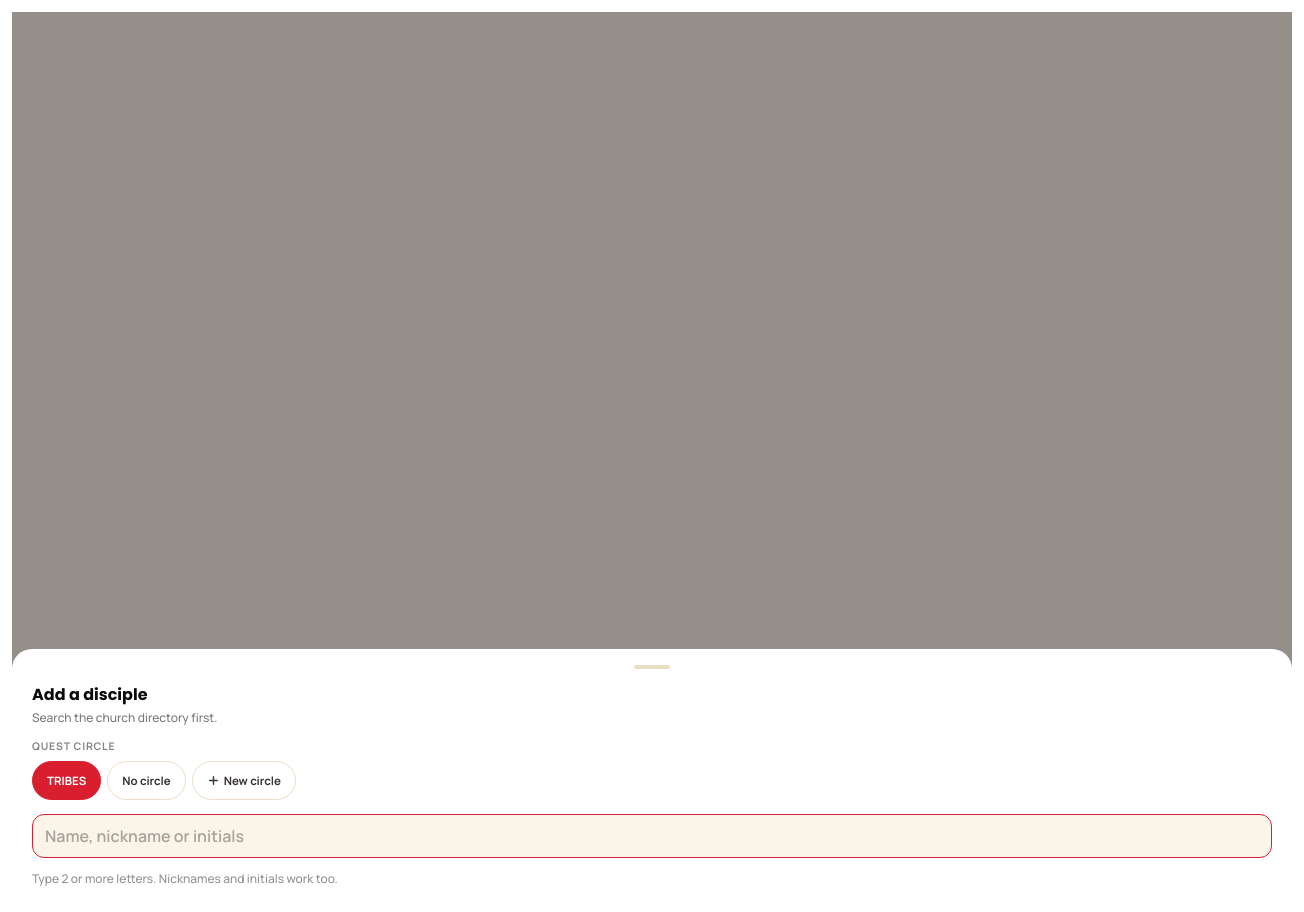
add sheet Quest Circle field (demo) › keeps the typed circle name across the switch to New believer
In the field named "Search the church directory": (652, 836) [32,814,1272,858], type "Juan Carlos Mendoza"
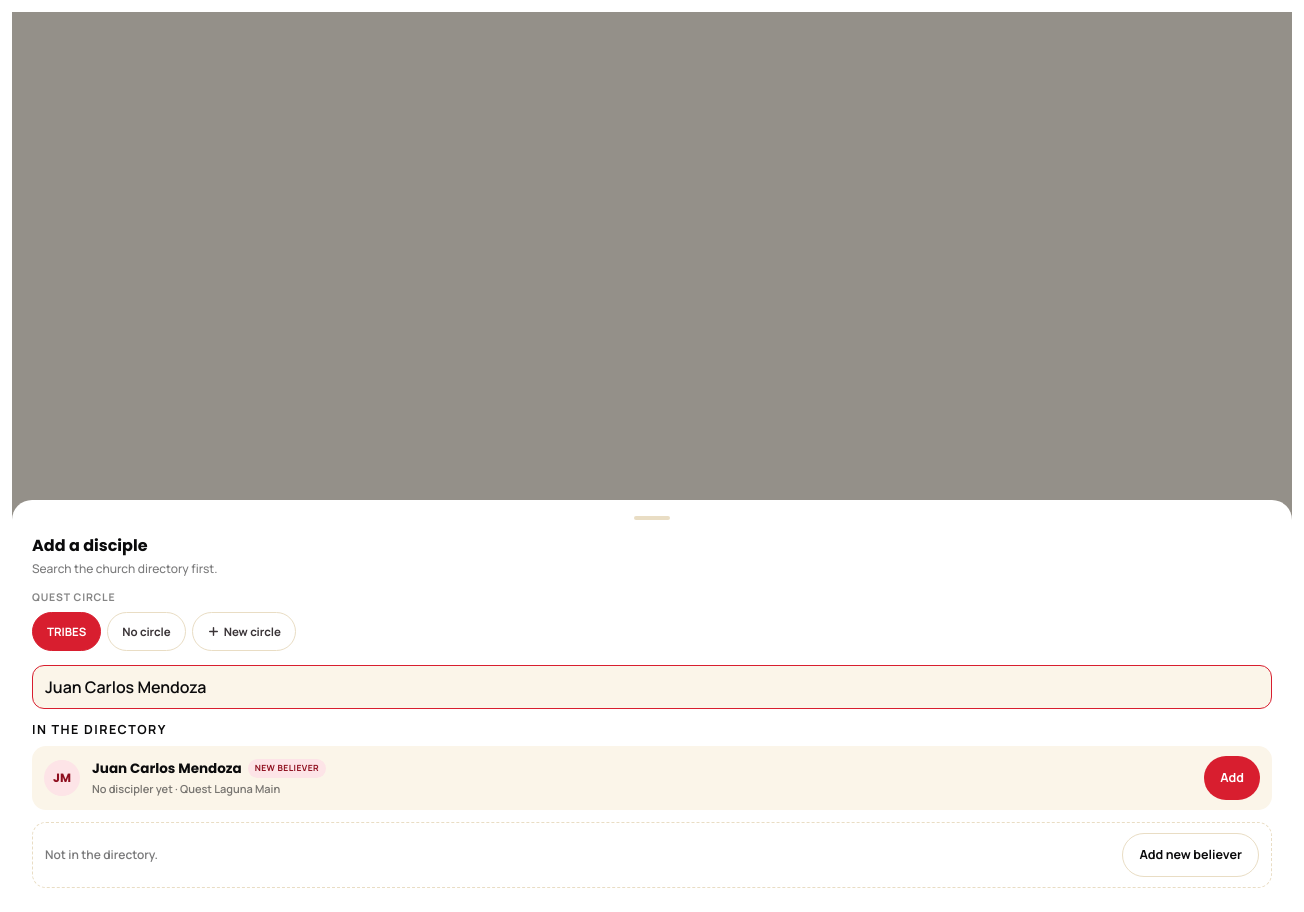
Click the button "New circle": (244, 631) [192,612,296,651]
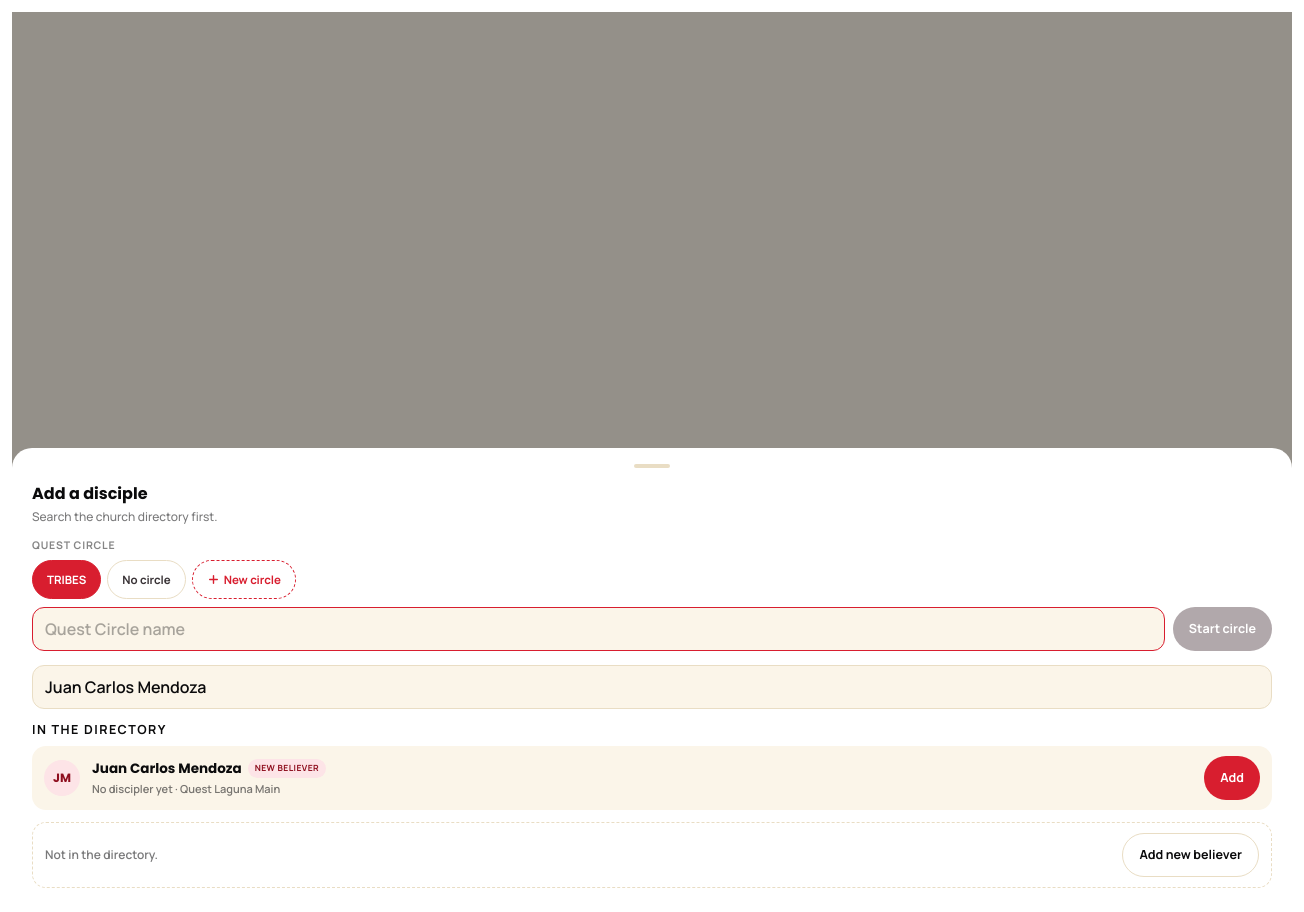
In the field named "New Quest Circle name": (598, 629) [32,607,1165,651], type "Test Circle"
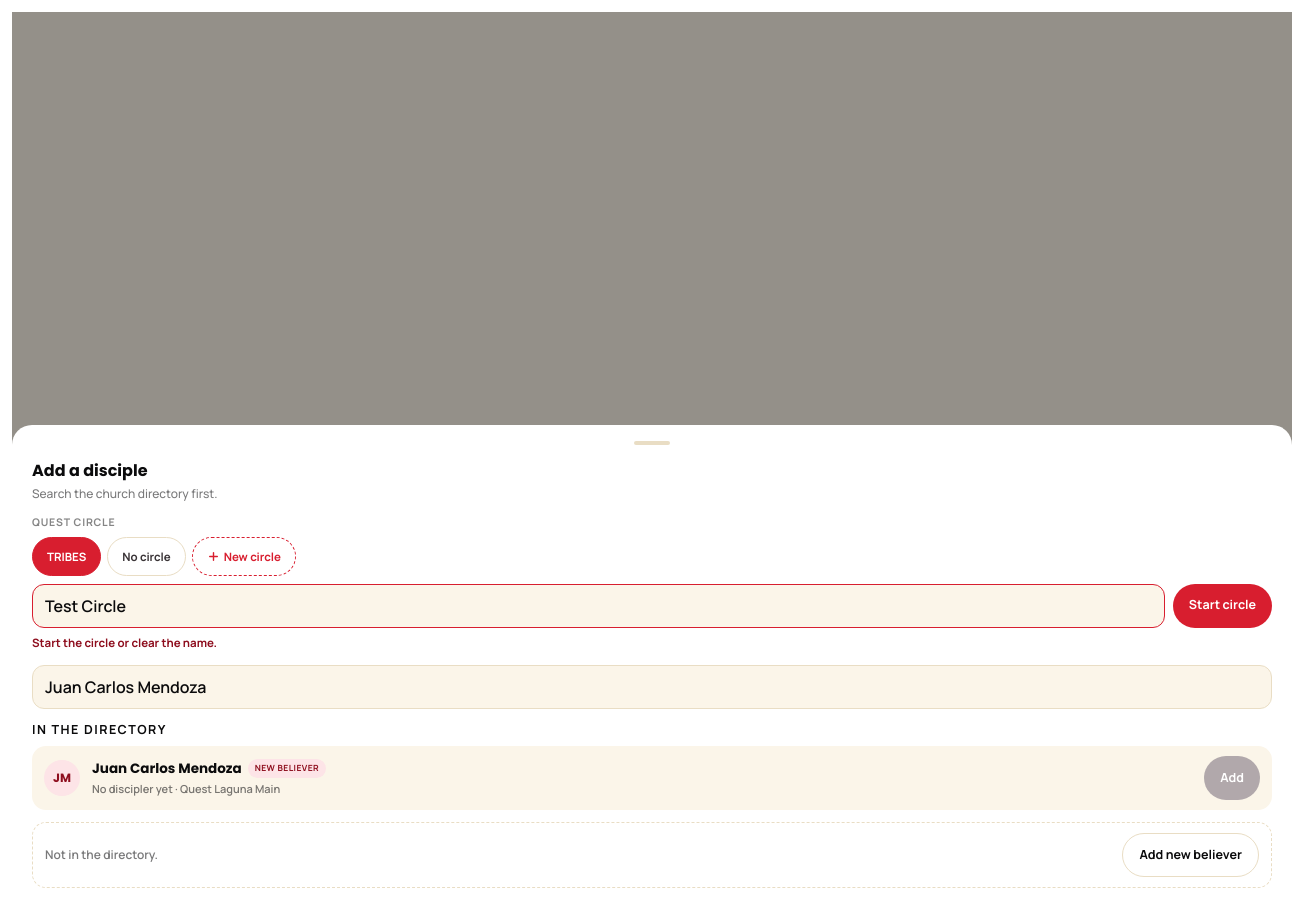
Click the button "Add new believer": (1191, 855) [1122,833,1259,877]
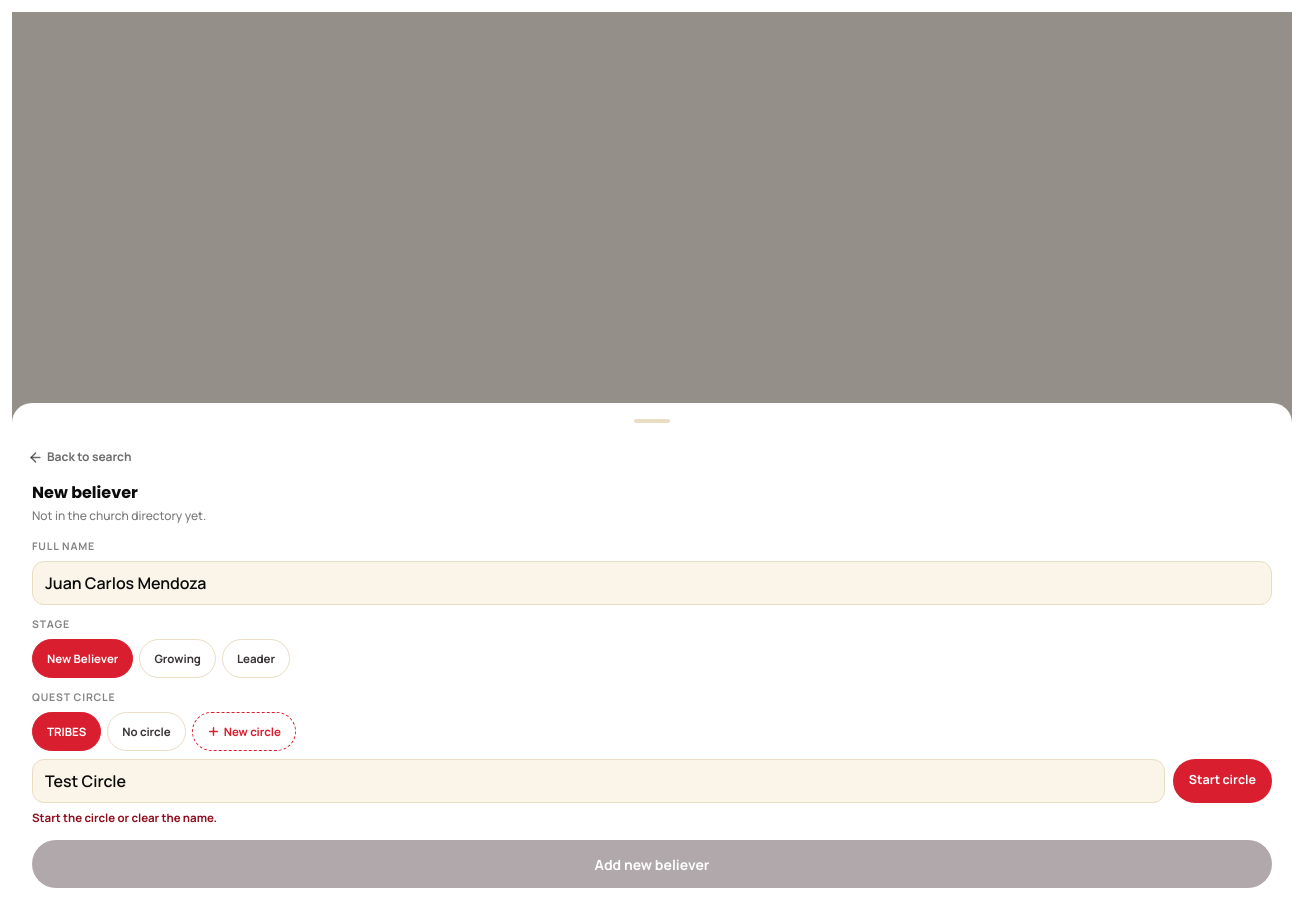
Result: the text "Start the circle or clear the name." is shown at [32,810,217,825]
Result: the text "New believer" is shown at [32,481,138,504]
Result: the field named "New Quest Circle name" holds "Test Circle" at [32,759,1165,803]
Click the button "Back to search": (80, 457) [28,437,132,477]
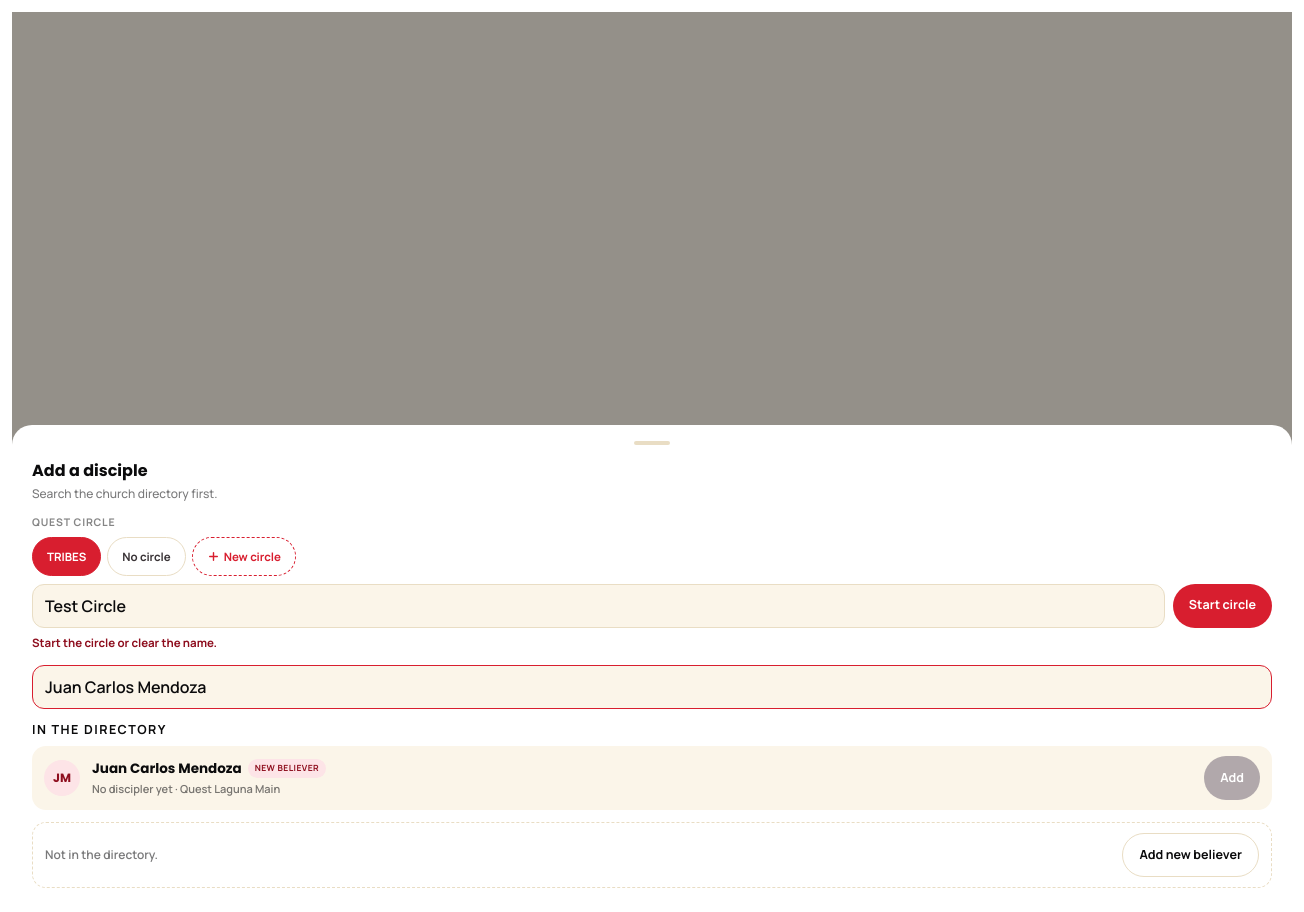
Result: the field named "New Quest Circle name" holds "Test Circle" at [32,584,1165,628]
